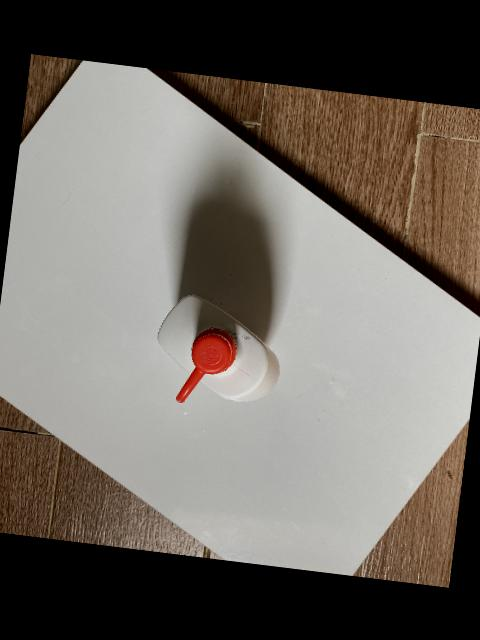life-buoy: (157, 293, 282, 403)
